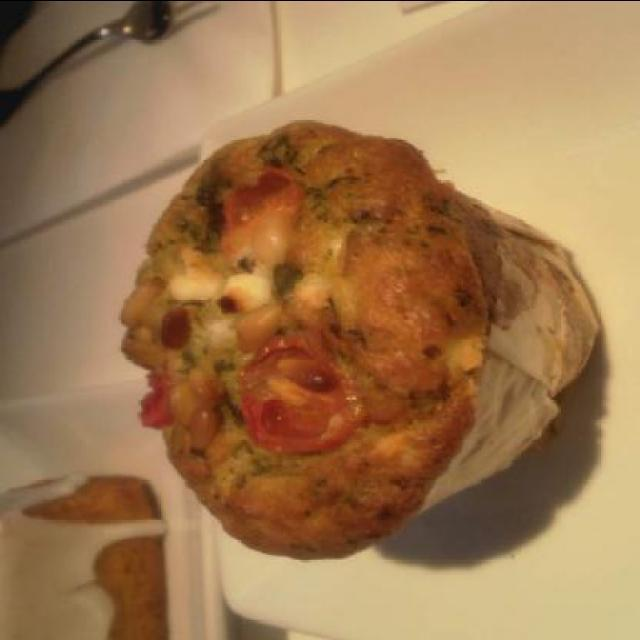Muffin: (123, 117, 606, 555)
